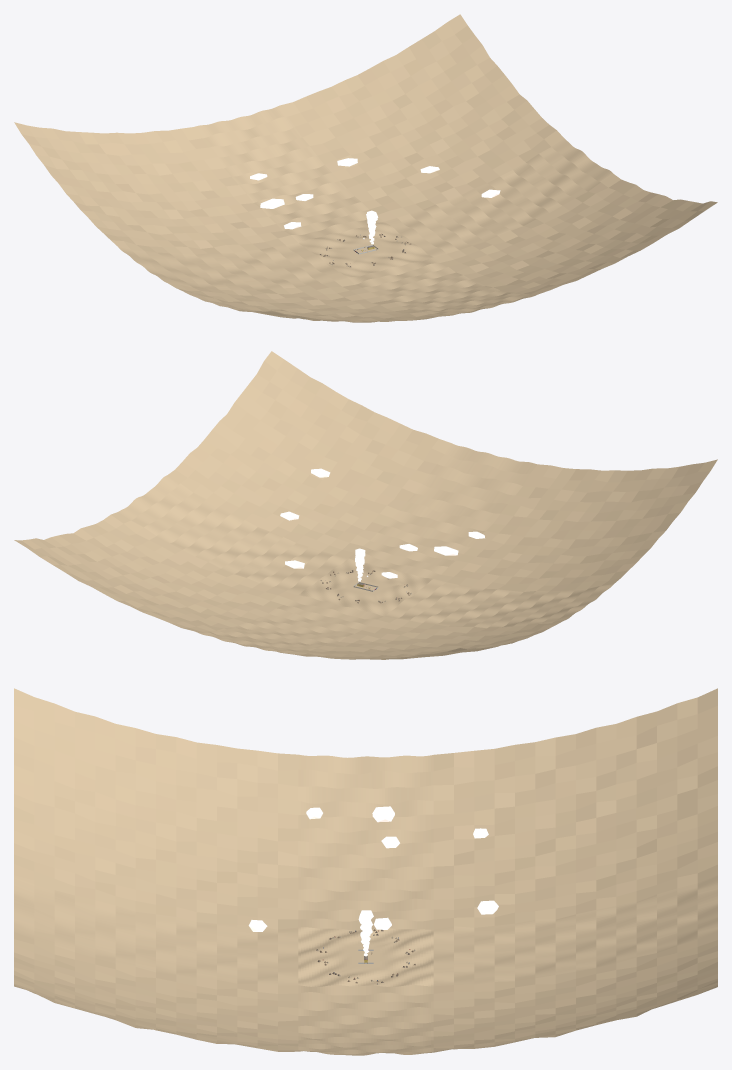
The model's file is tabernacle.glb.
The picture shows the model from 3 angles, top to bottom: view 1: azimuth 30°, elevation 25°; view 2: azimuth 150°, elevation 25°; view 3: azimuth 270°, elevation 25°; orthographic projection. The views are drawn at different scales.
Parts seen in each view (by area): view 1: Terrain; view 2: Terrain; view 3: Terrain.
Part boxes in pixels (x1,y1,x2,y2): Terrain: (14, 14, 717, 322); Terrain: (14, 351, 717, 659); Terrain: (14, 688, 717, 1055).
Bounding box in the file's own units: 1040 × 200 × 1040.
